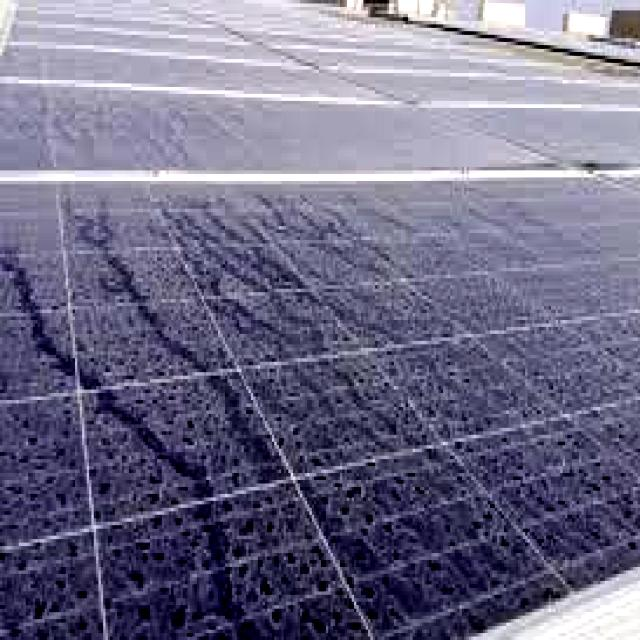dust: (418, 198, 624, 304), (427, 328, 636, 432), (225, 205, 385, 338), (78, 196, 206, 362), (442, 474, 626, 580), (0, 184, 71, 392), (81, 371, 211, 484), (228, 366, 409, 439), (213, 473, 305, 611), (4, 418, 79, 582), (340, 466, 418, 600), (126, 514, 192, 630), (8, 594, 102, 640)
